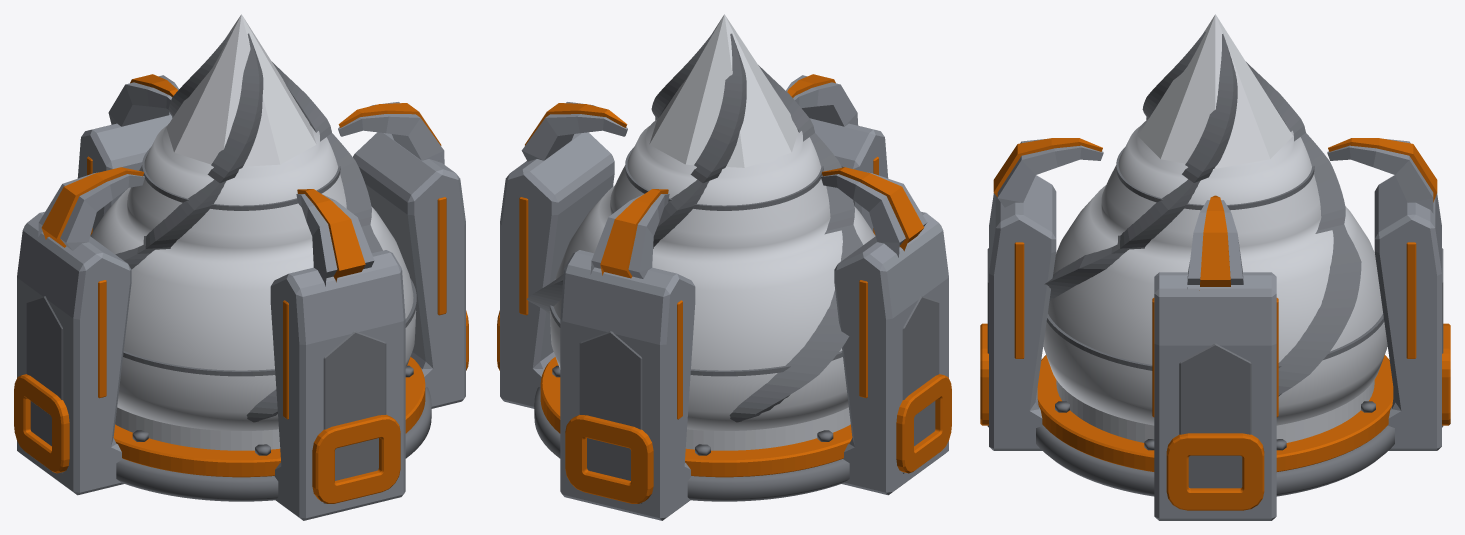
The model's file is drill.glb.
The picture shows the model from 3 angles, left to right: view 1: azimuth 30°, elevation 25°; view 2: azimuth 150°, elevation 25°; view 3: azimuth 270°, elevation 25°; orthographic projection.
Visible parts, largest first — view 1: Drill.001; view 2: Drill.001; view 3: Drill.001.
Boxes of the visible parts, x1=… form: Drill.001: x1=14, y1=14, x2=468, y2=520; Drill.001: x1=497, y1=14, x2=951, y2=520; Drill.001: x1=980, y1=14, x2=1450, y2=520.
Bounding box in the file's own units: 0.768 × 0.75 × 0.768.
